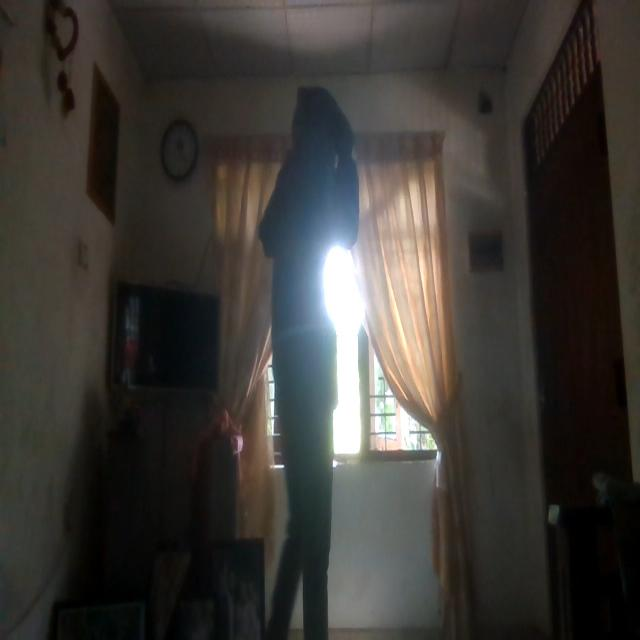Helmet_Wearer: (292, 88, 350, 182)
Jacket_Wearer: (260, 158, 364, 410)
Person: (249, 81, 369, 611)
